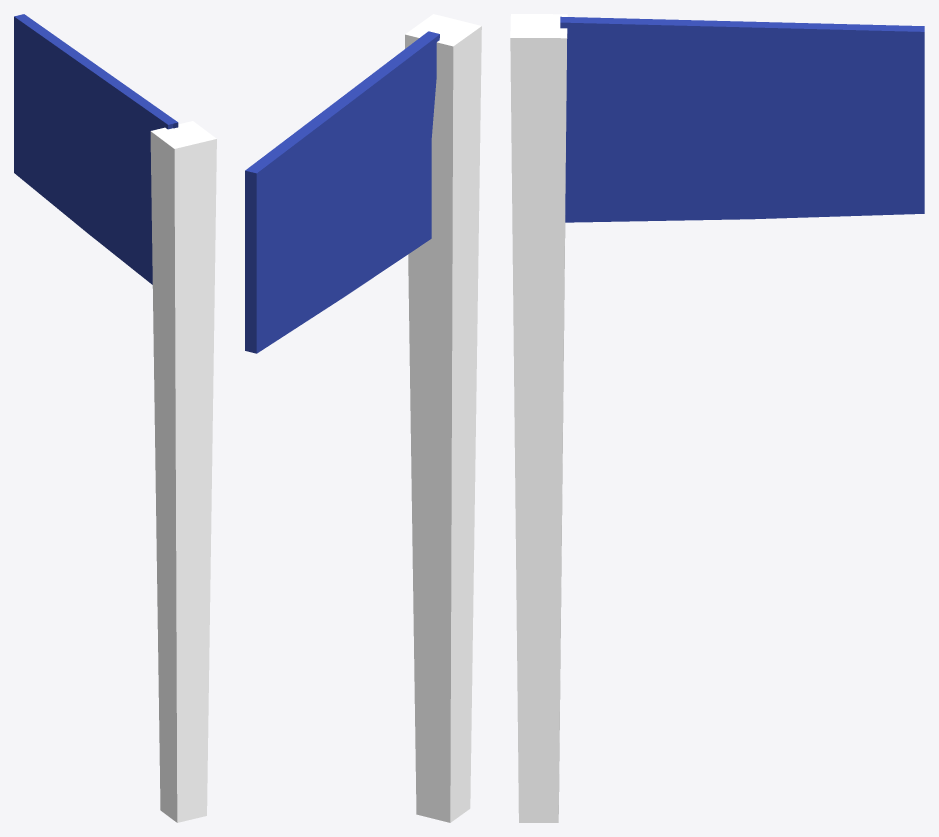
The model's file is flag_blue.gltf.
3 views of the same model, side by side, from view 1: azimuth 30°, elevation 25°; view 2: azimuth 150°, elevation 25°; view 3: azimuth 270°, elevation 25° (orthographic). The views are drawn at different scales.
Visible parts, largest first — view 1: Cube.001; view 2: Cube.001; view 3: Cube.001.
Part boxes in pixels (x1,y1,x2,y2): Cube.001: (14, 14, 216, 822); Cube.001: (245, 14, 481, 822); Cube.001: (510, 14, 924, 822).
Bounding box in the file's own units: 0.0502 × 0.7691 × 0.3637.
